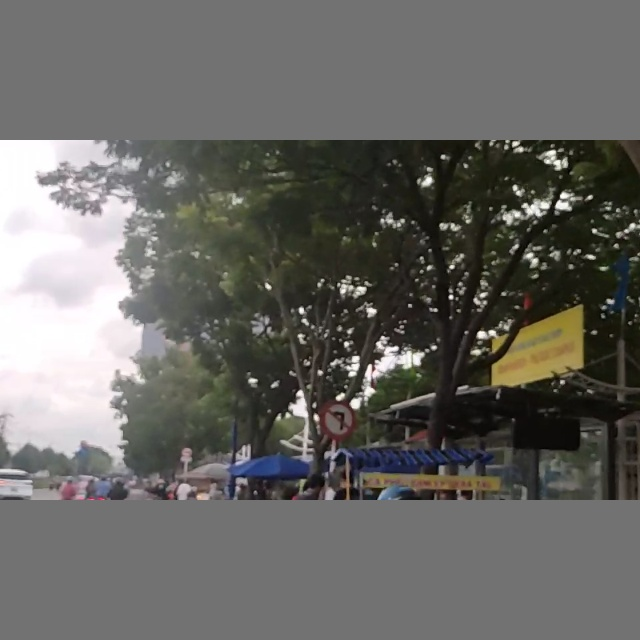P.123a: (321, 401, 353, 435)
